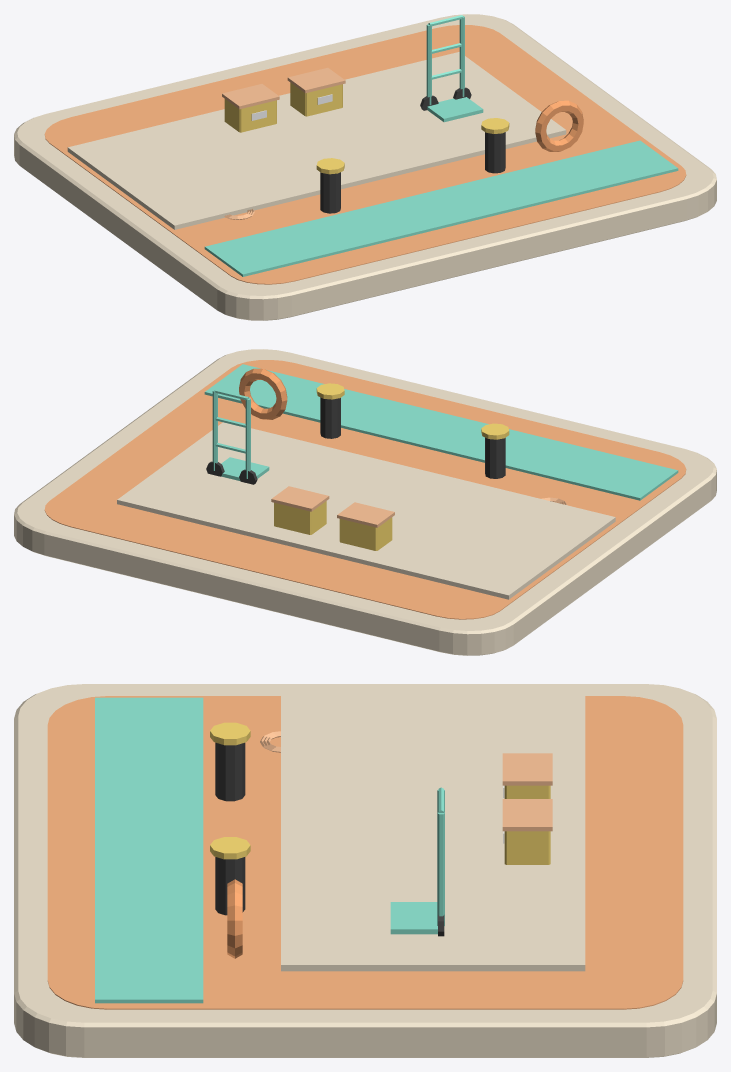
3 renders of one model, top to bottom at view 1: azimuth 30°, elevation 25°; view 2: azimuth 150°, elevation 25°; view 3: azimuth 270°, elevation 25°, orthographic. The views are drawn at different scales.
Parts seen in each view (by area): view 1: Dock paving, COM-01 Rounded Base Direct, COM-02 Floor Surface, Water edge, Life ring, Box.001, Box, Loading plate, Lid.001, Lid, Mooring post, Mooring post.001; view 2: Dock paving, COM-02 Floor Surface, COM-01 Rounded Base Direct, Water edge, Life ring, Box, Box.001, Lid.001, Lid, Mooring post, Mooring post.001, Loading plate; view 3: Dock paving, COM-02 Floor Surface, COM-01 Rounded Base Direct, Water edge, Mooring post, Lid, Lid.001, Box.001, Loading plate, Mooring post.001, Life ring, Frame.001 (+3 smaller).
Boxes of the visible parts, x1,y1,x2,y2 form: Dock paving: [67, 52, 566, 229]; COM-01 Rounded Base Direct: [14, 14, 716, 320]; COM-02 Floor Surface: [44, 25, 686, 284]; Water edge: [204, 140, 678, 276]; Life ring: [535, 100, 583, 151]; Box.001: [290, 82, 342, 116]; Box: [224, 99, 276, 132]; Loading plate: [427, 97, 483, 122]; Lid.001: [287, 67, 345, 93]; Lid: [222, 84, 279, 109]; Mooring post: [320, 172, 340, 213]; Mooring post.001: [485, 132, 505, 173]; Dock paving: [117, 422, 615, 599]; COM-02 Floor Surface: [44, 360, 686, 619]; COM-01 Rounded Base Direct: [14, 349, 716, 655]; Water edge: [204, 364, 678, 500]; Life ring: [239, 368, 287, 419]; Box: [339, 517, 392, 550]; Box.001: [274, 501, 326, 534]; Lid.001: [271, 486, 329, 511]; Lid: [337, 502, 394, 527]; Mooring post: [485, 437, 505, 478]; Mooring post.001: [320, 397, 340, 438]; Loading plate: [221, 457, 269, 481]; Dock paving: [281, 693, 585, 971]; COM-02 Floor Surface: [47, 696, 683, 1009]; COM-01 Rounded Base Direct: [14, 684, 716, 1057]; Water edge: [95, 697, 203, 1003]; Mooring post: [215, 742, 245, 801]; Lid: [502, 753, 552, 785]; Lid.001: [502, 799, 552, 831]; Box.001: [504, 831, 550, 864]; Loading plate: [390, 902, 437, 934]; Mooring post.001: [215, 857, 245, 915]; Life ring: [227, 879, 242, 958]; Frame.001: [437, 812, 444, 925].
Size of the model in its own units: 6 by 1.34 by 5.2.
1 material, 1 textured.
